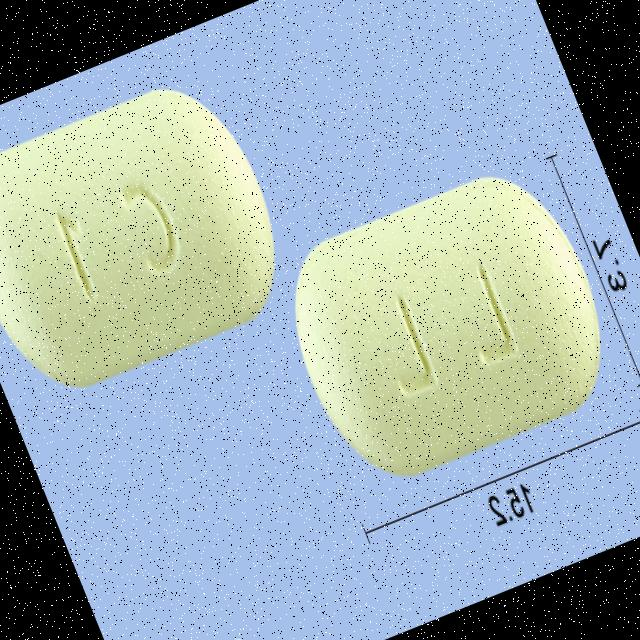Clratomin - 500mg: (261, 150, 631, 498), (0, 62, 305, 409)
